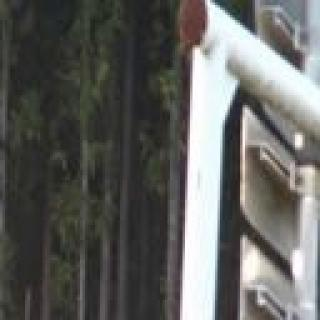fire: (0, 203, 9, 320)
